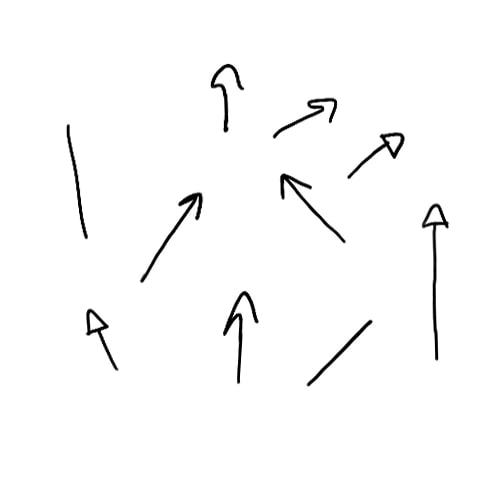arrow: (138, 191, 204, 278), (277, 171, 348, 245), (419, 201, 448, 359), (222, 288, 259, 383), (347, 129, 405, 177), (273, 95, 339, 135), (81, 307, 118, 368), (212, 65, 242, 136)
arrownohead: (304, 317, 373, 392), (61, 123, 92, 240)
